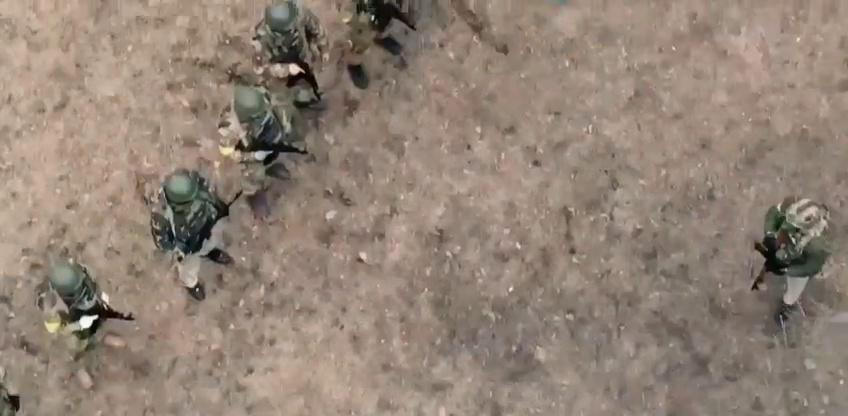person: (38, 258, 136, 390), (216, 84, 310, 218), (150, 168, 245, 300), (750, 195, 830, 326), (252, 0, 331, 108), (342, 0, 415, 87)
